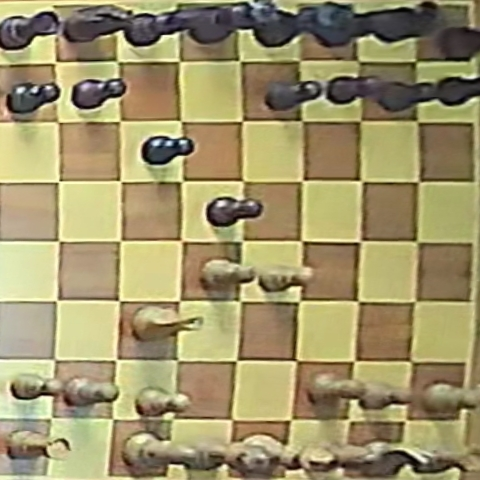black-bishop: (318, 8, 397, 47), (127, 8, 202, 46)
black-king: (250, 2, 354, 47)
black-knight: (375, 2, 443, 45), (63, 5, 135, 45)
black-pawn: (376, 78, 439, 115), (326, 74, 387, 106), (6, 81, 60, 115), (264, 80, 322, 111), (434, 74, 480, 113), (72, 78, 126, 110), (206, 197, 262, 227), (142, 136, 194, 165)
black-queen: (187, 2, 280, 44)
black-rook: (1, 11, 60, 50), (434, 25, 480, 59)
white-bishop: (125, 433, 200, 471), (314, 441, 380, 473)
white-king: (240, 434, 335, 477)
white-knight: (357, 441, 434, 477), (133, 306, 202, 342)
white-pawn: (420, 381, 478, 416), (309, 373, 367, 405), (65, 377, 120, 408), (356, 380, 413, 409), (136, 386, 191, 416), (255, 263, 313, 291), (201, 259, 254, 288), (12, 373, 65, 400)
white-queen: (184, 436, 271, 474)
white-rook: (6, 431, 71, 460), (420, 447, 480, 473)
